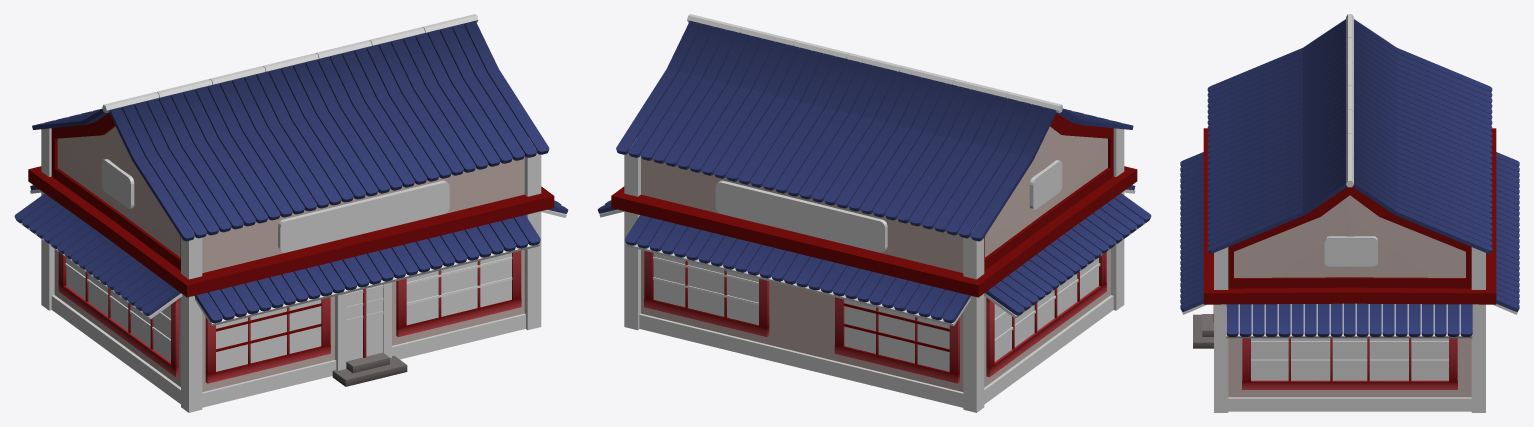
Rendered from big_house (3).fbx.
3 views of the same model, side by side, from view 1: azimuth 30°, elevation 25°; view 2: azimuth 150°, elevation 25°; view 3: azimuth 270°, elevation 25° (orthographic). The views are drawn at different scales.
Visible parts, largest first — view 1: roof tiles.004, Cube.001, roof tiles.002, vertical beam, roof tiles.003, signboard2, window.001, window.002, lower beam3, roof divider.001, window, lower beam2 (+14 smaller); view 2: roof tiles.004, Cube.001, roof tiles.002, vertical beam, roof tiles.003, signboard2, lower beam1, window.002, window.001, roof divider.001, window, lower beam2 (+10 smaller); view 3: roof tiles.004, Cube.001, roof tiles.003, window, roof tiles.002, vertical beam, lower beam2, Cube.032, Cube.027, signboard1, roof divider.001, Cube.033 (+3 smaller).
Part boxes in pixels (x1,y1,x2,y2): roof tiles.004: (32, 21, 549, 241); Cube.001: (28, 113, 554, 391); roof tiles.002: (30, 185, 540, 323); vertical beam: (41, 128, 541, 412); roof tiles.003: (14, 193, 568, 315); signboard2: (278, 180, 449, 252); window.001: (406, 253, 511, 325); window.002: (216, 299, 321, 371); lower beam3: (202, 313, 525, 407); roof divider.001: (102, 14, 478, 112); window: (66, 257, 170, 361); lower beam2: (51, 295, 180, 403); roof tiles.004: (616, 21, 1133, 241); Cube.001: (611, 113, 1137, 391); roof tiles.002: (624, 185, 1135, 323); vertical beam: (624, 128, 1124, 412); roof tiles.003: (597, 193, 1151, 315); signboard2: (715, 180, 887, 252); lower beam1: (639, 313, 963, 407); window.002: (844, 299, 949, 371); window.001: (653, 253, 758, 325); roof divider.001: (687, 14, 1062, 113); window: (994, 258, 1098, 361); lower beam2: (984, 295, 1113, 404); roof tiles.004: (1207, 19, 1492, 253); Cube.001: (1203, 128, 1496, 397); roof tiles.003: (1226, 303, 1472, 336); window: (1251, 338, 1448, 380); roof tiles.002: (1180, 152, 1519, 311); vertical beam: (1214, 247, 1485, 412); lower beam2: (1228, 397, 1471, 411); Cube.032: (1242, 380, 1457, 389); Cube.027: (1226, 303, 1472, 338); signboard1: (1324, 236, 1377, 266); roof divider.001: (1346, 14, 1353, 187); Cube.033: (1251, 341, 1448, 362).
Size of the model in its own units: 2824 by 1640 by 2130.
